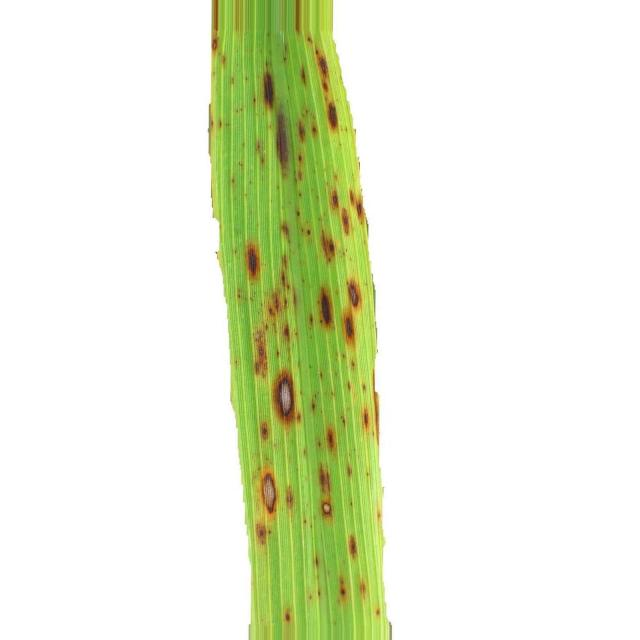Brown_Spot: (276, 112, 289, 165), (254, 330, 268, 376), (278, 378, 294, 416), (262, 474, 276, 512), (245, 244, 260, 278), (350, 190, 365, 220), (321, 231, 335, 262), (316, 50, 329, 81), (264, 72, 274, 106), (268, 291, 282, 315), (321, 294, 331, 324), (348, 282, 360, 307), (344, 314, 355, 341), (319, 466, 330, 492), (328, 102, 338, 129), (256, 524, 268, 545), (341, 209, 350, 234), (349, 536, 358, 558), (326, 428, 335, 450), (330, 189, 339, 209), (286, 486, 294, 508), (260, 421, 269, 439), (282, 609, 292, 625), (321, 501, 331, 516), (362, 410, 369, 431), (281, 219, 289, 236), (299, 121, 305, 140), (280, 252, 288, 266), (282, 325, 290, 338), (340, 582, 346, 599), (360, 580, 366, 597), (301, 65, 306, 84), (280, 270, 286, 285)
